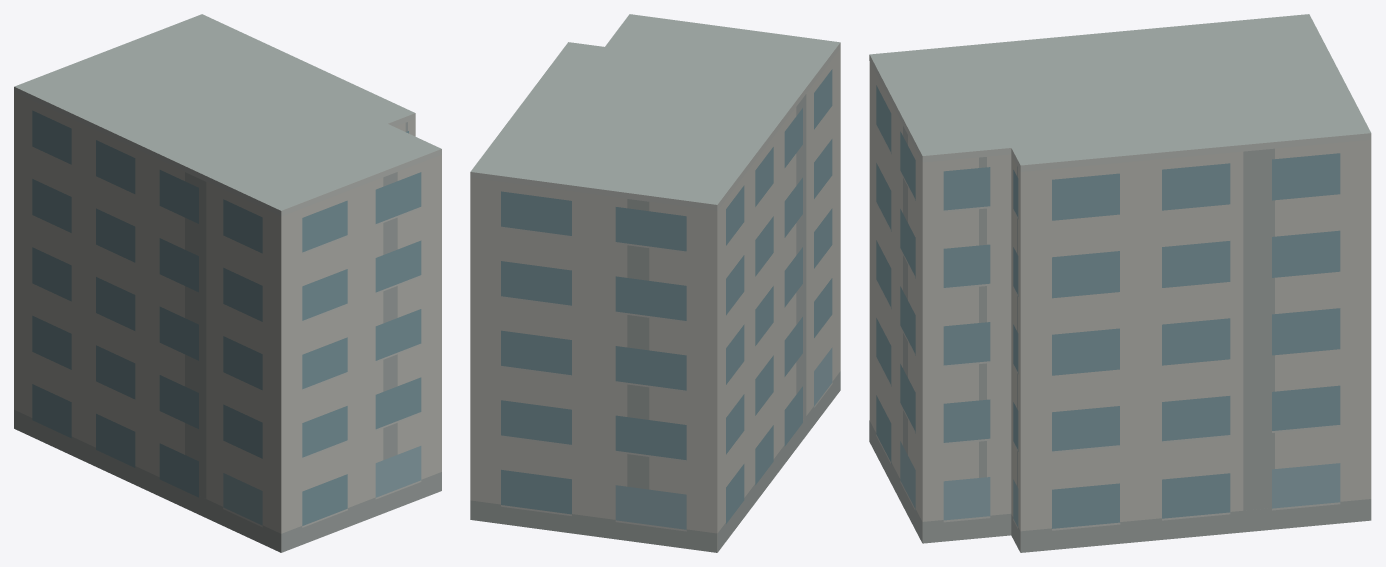
Rendered from survey-upis-32839505.glb.
3 renders of one model, left to right at view 1: azimuth 30°, elevation 25°; view 2: azimuth 150°, elevation 25°; view 3: azimuth 270°, elevation 25°, orthographic. The views are drawn at different scales.
Parts seen in each view (by area): view 1: survey-upis-32839505.tmp; view 2: survey-upis-32839505.tmp; view 3: survey-upis-32839505.tmp.
Boxes of the visible parts, <box> form: survey-upis-32839505.tmp: <box>14,14,441,552</box>; survey-upis-32839505.tmp: <box>470,14,840,552</box>; survey-upis-32839505.tmp: <box>869,14,1371,552</box>.
Size of the model in its own units: 11.92 by 14.2 by 16.68.
